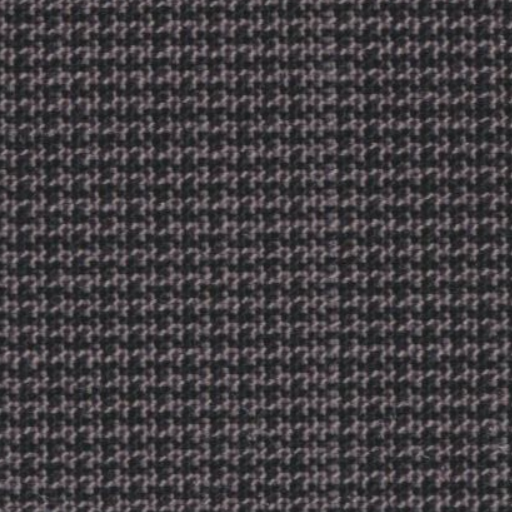TuoSha: (269, 10, 372, 486)
